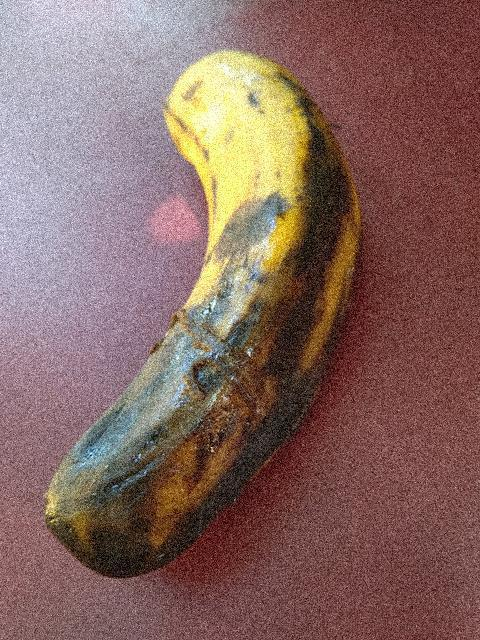rotten: (35, 32, 386, 587)
